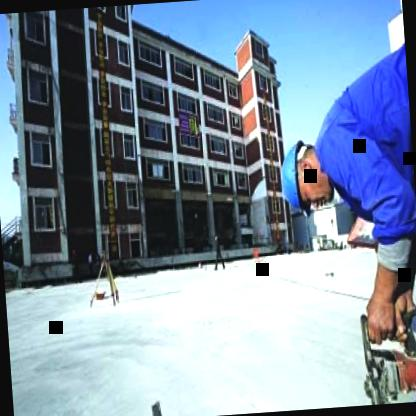helmet: (276, 135, 338, 212)
